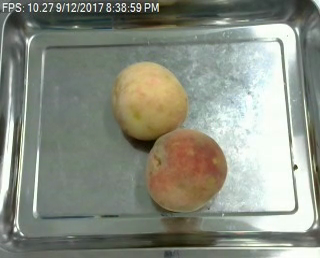Peach: (146, 127, 227, 212), (111, 60, 188, 140)
